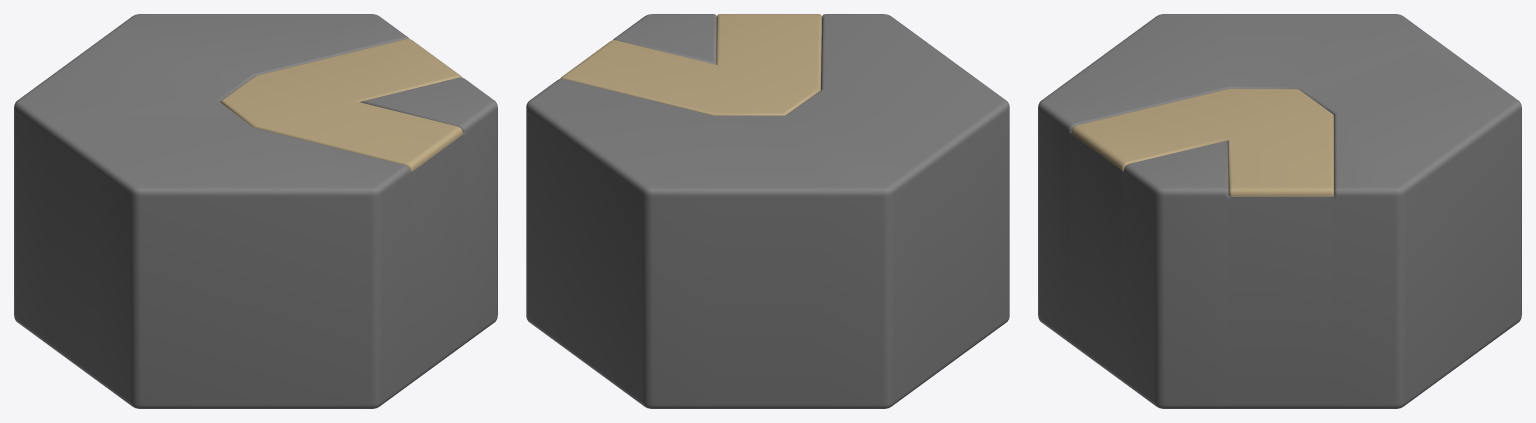
File: Road2.fbx
3 renders of one model, left to right at view 1: azimuth 30°, elevation 25°; view 2: azimuth 150°, elevation 25°; view 3: azimuth 270°, elevation 25°, orthographic.
Visible parts, largest first — view 1: Cylinder031; view 2: Cylinder031; view 3: Cylinder031.
Boxes of the visible parts, <box> form: Cylinder031: <box>14,14,497,408</box>; Cylinder031: <box>526,14,1009,408</box>; Cylinder031: <box>1038,14,1521,408</box>.
Bounding box in the file's own units: 173 × 100 × 199.
